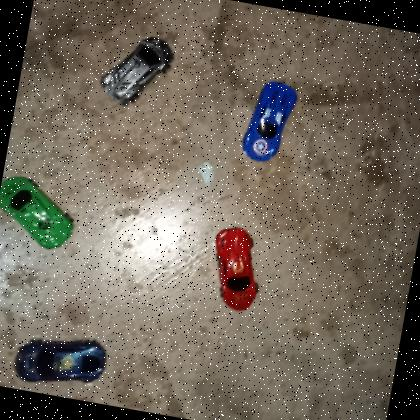Car: (94, 27, 179, 114), (11, 325, 112, 398), (0, 172, 84, 255), (204, 222, 272, 318), (238, 76, 302, 168)
